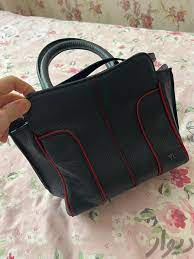Bag: (4, 52, 194, 218)
